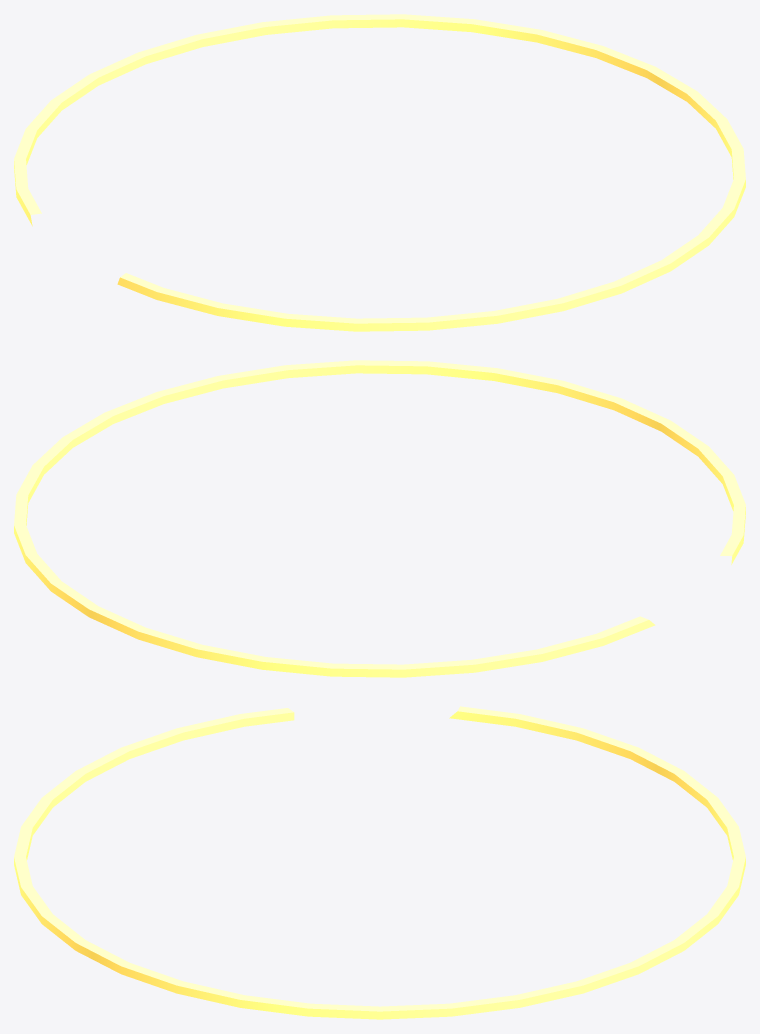
The model's file is Circle1_Mid.glb.
The picture shows the model from 3 angles, top to bottom: view 1: azimuth 30°, elevation 25°; view 2: azimuth 150°, elevation 25°; view 3: azimuth 270°, elevation 25°; orthographic projection.
Visible parts, largest first — view 1: Circle1; view 2: Circle1; view 3: Circle1.
Part boxes in pixels (x1,y1,x2,y2): Circle1: (14, 14, 745, 331); Circle1: (14, 360, 745, 677); Circle1: (14, 706, 745, 1019).
Bounding box in the file's own units: 8.58 × 0.1045 × 8.66.
